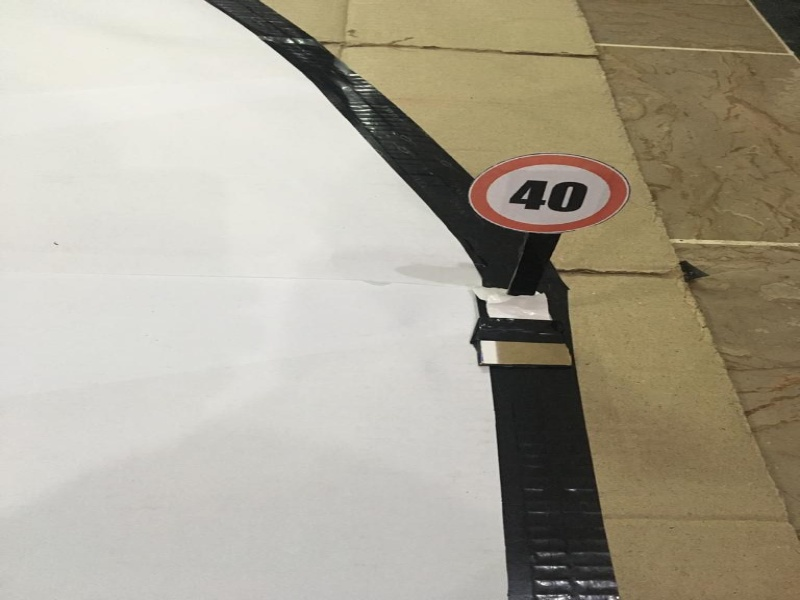Speed Limit 40: (461, 143, 637, 235)
